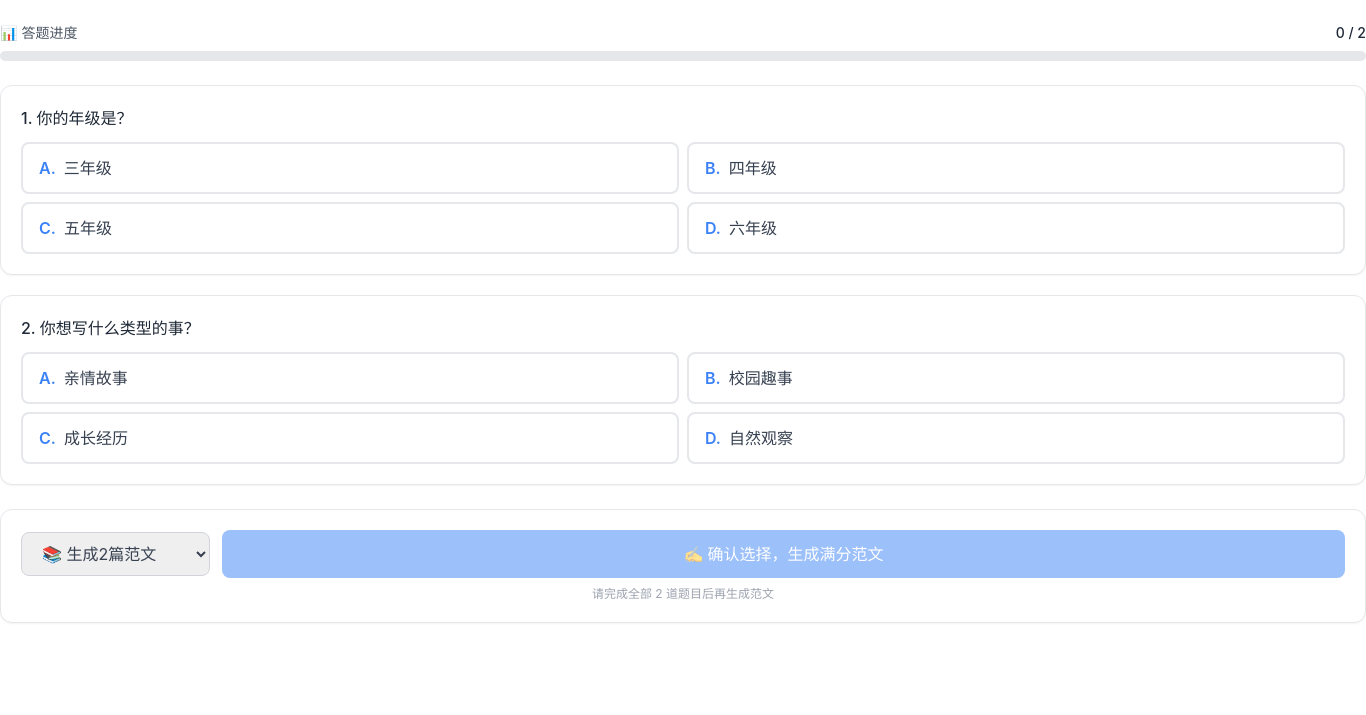
Test case: SurveyForm 组件 › 全部答完后按钮应启用
What coordinates should you click on to do the following:
click the text "三年级"
I would click on:
 (88, 168)
Its box is [64,158,112,178].
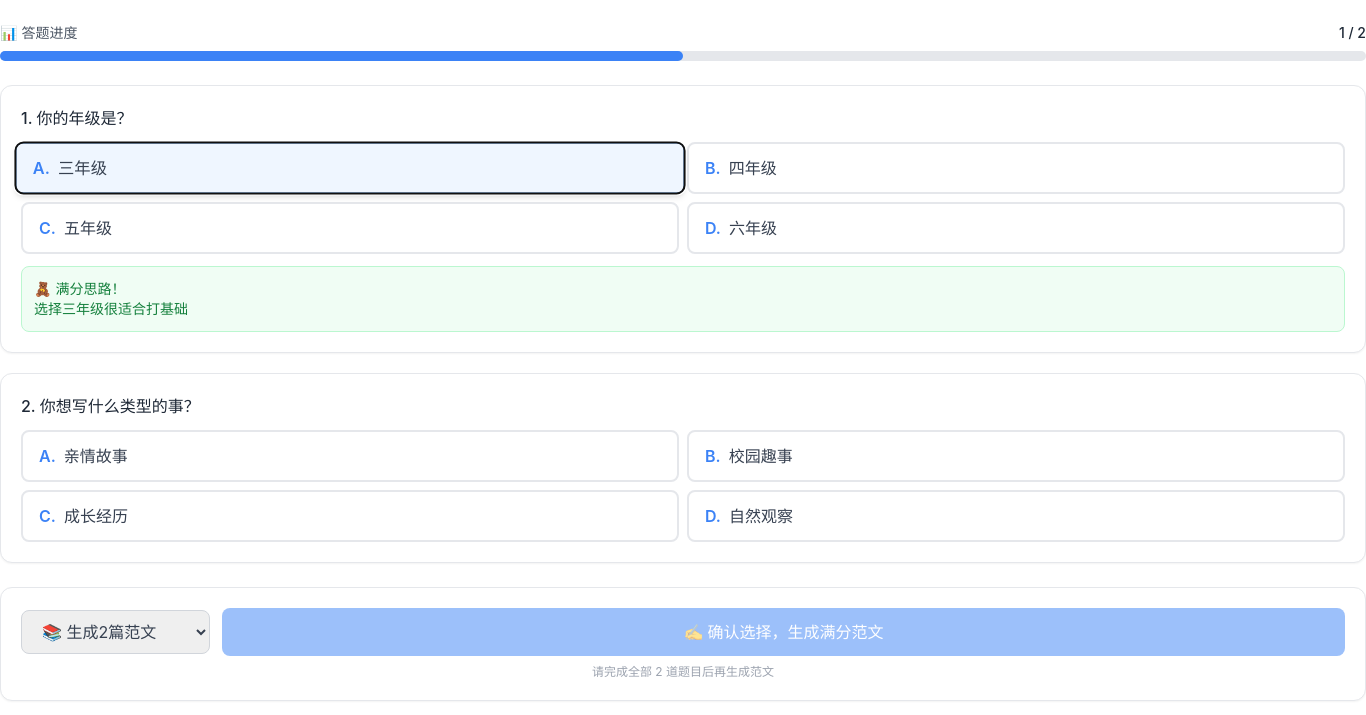
What coordinates should you click on to do the following:
click the text "亲情故事"
I would click on:
 (96, 456)
Its box is [64,446,128,466].
(page scrolled)
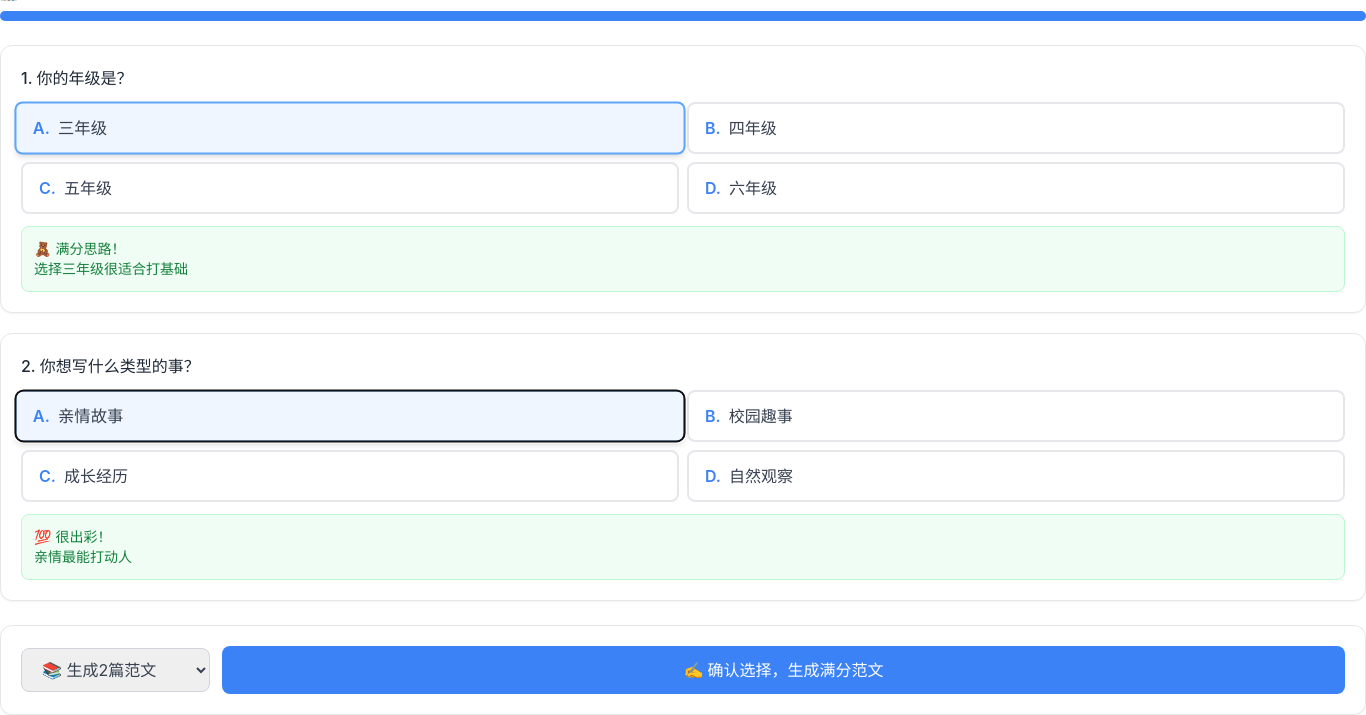
Expected: the button "✍️ 确认选择，生成满分范文" is enabled, [222,646,1345,694]
